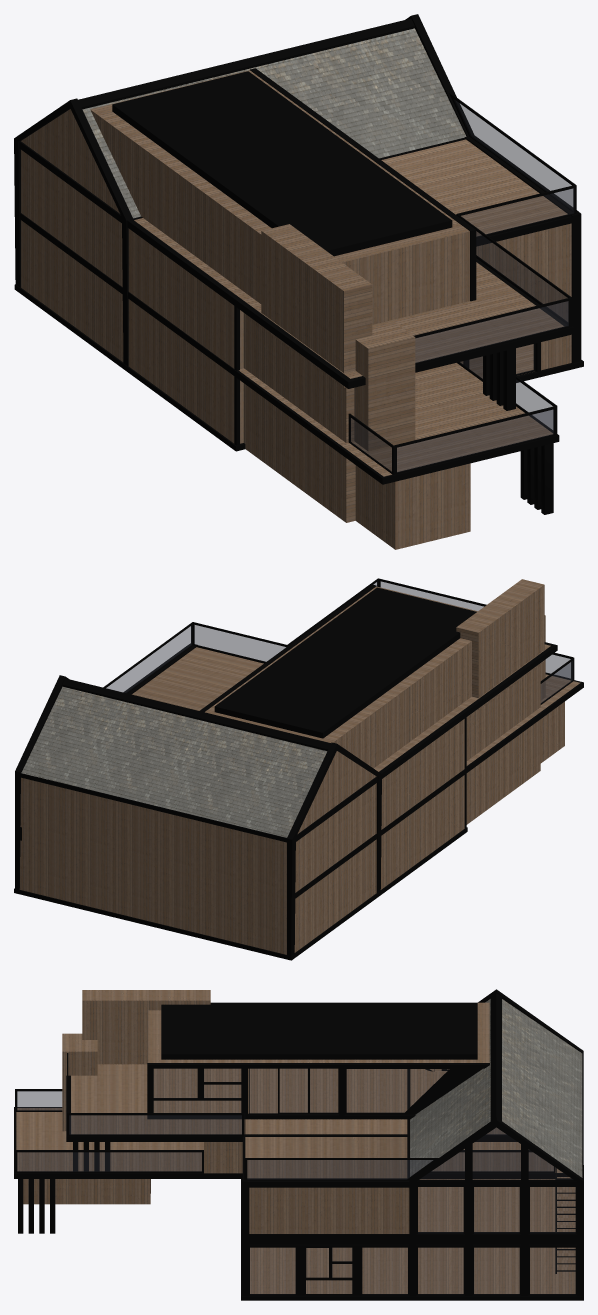
Rendered from modern_building_-_gallery_-_office.glb.
3 views of the same model, one above another, from view 1: azimuth 30°, elevation 25°; view 2: azimuth 150°, elevation 25°; view 3: azimuth 270°, elevation 25° (orthographic). The views are drawn at different scales.
Visible parts, largest first — view 1: Main Building, Second Floor Corridor, First Floor, Back Wall Segment, Second Floor Block, Second Floor _Wooden_Planks_0, Storage Room, First Floor Block, Second Floor _Metal_0, Glass Barrier.004, Glass Barrier, Pillar.003 (+13 smaller); view 2: Main Building, Second Floor Corridor, Back Wall Segment, Second Floor Block, First Floor, Pillar.003, Second Floor _Metal_0, Glass Barrier.002, Glass Barrier.001, Pillar.004, Horizontal Pillar Big.002, Horizontal Pillar Big.010 (+8 smaller); view 3: Main Building, Second Floor Corridor, Second Floor _Wooden_Planks_0, First Floor, First Floor Front Wall, Second Floor Block, Window.013, Glass Barrier.003, First Floor Windows Frame, Glass Barrier.006, Glass Barrier.001, Window.014 (+33 smaller).
Boxes of the visible parts, <box> form: Main Building: <box>21,18,571,443</box>; Second Floor Corridor: <box>90,70,469,324</box>; First Floor: <box>20,213,559,484</box>; Back Wall Segment: <box>244,313,355,522</box>; Second Floor Block: <box>261,224,372,387</box>; Second Floor _Wooden_Planks_0: <box>134,218,563,378</box>; Storage Room: <box>355,463,470,549</box>; First Floor Block: <box>354,320,415,451</box>; Second Floor _Metal_0: <box>19,141,573,388</box>; Glass Barrier.004: <box>394,406,555,474</box>; Glass Barrier: <box>413,297,570,365</box>; Pillar.003: <box>14,98,133,366</box>; Main Building: <box>19,647,464,954</box>; Second Floor Corridor: <box>205,586,477,768</box>; Back Wall Segment: <box>466,664,540,824</box>; Second Floor Block: <box>456,579,544,709</box>; First Floor: <box>295,674,583,898</box>; Pillar.003: <box>287,742,381,956</box>; Second Floor _Metal_0: <box>296,642,557,841</box>; Glass Barrier.002: <box>192,622,287,663</box>; Glass Barrier.001: <box>103,622,192,693</box>; Pillar.004: <box>15,675,68,889</box>; Horizontal Pillar Big.002: <box>19,890,288,959</box>; Horizontal Pillar Big.010: <box>20,773,286,842</box>; Main Building: <box>245,993,582,1293</box>; Second Floor Corridor: <box>148,1002,489,1062</box>; Second Floor _Wooden_Planks_0: <box>71,1064,505,1134</box>; First Floor: <box>14,1107,568,1178</box>; First Floor Front Wall: <box>249,1187,409,1233</box>; Second Floor Block: <box>82,990,210,1064</box>; Window.013: <box>344,1068,482,1114</box>; Glass Barrier.003: <box>15,1150,203,1173</box>; First Floor Windows Frame: <box>147,1063,489,1119</box>; Glass Barrier.006: <box>67,1113,243,1136</box>; Glass Barrier.001: <box>245,1158,439,1180</box>; Window.014: <box>152,1068,243,1112</box>.
Size of the model in its own units: 14.22 by 9.1 by 25.93.
4 materials, 2 textured.
